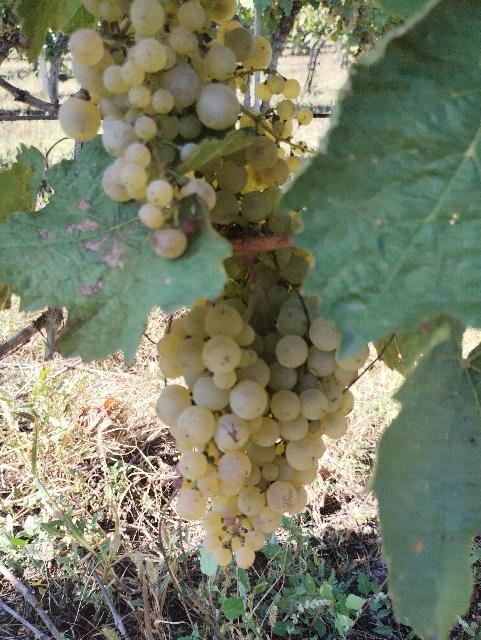grapes: (158, 299, 365, 569), (59, 0, 244, 231)
